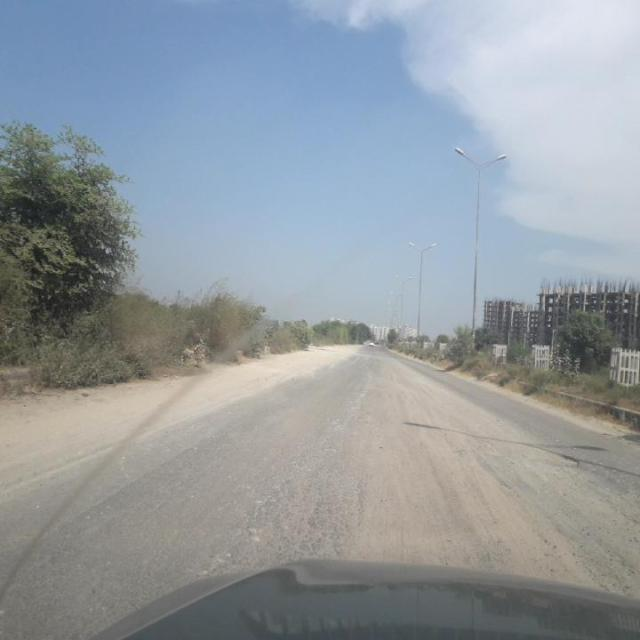D20: (0, 423, 361, 571)
